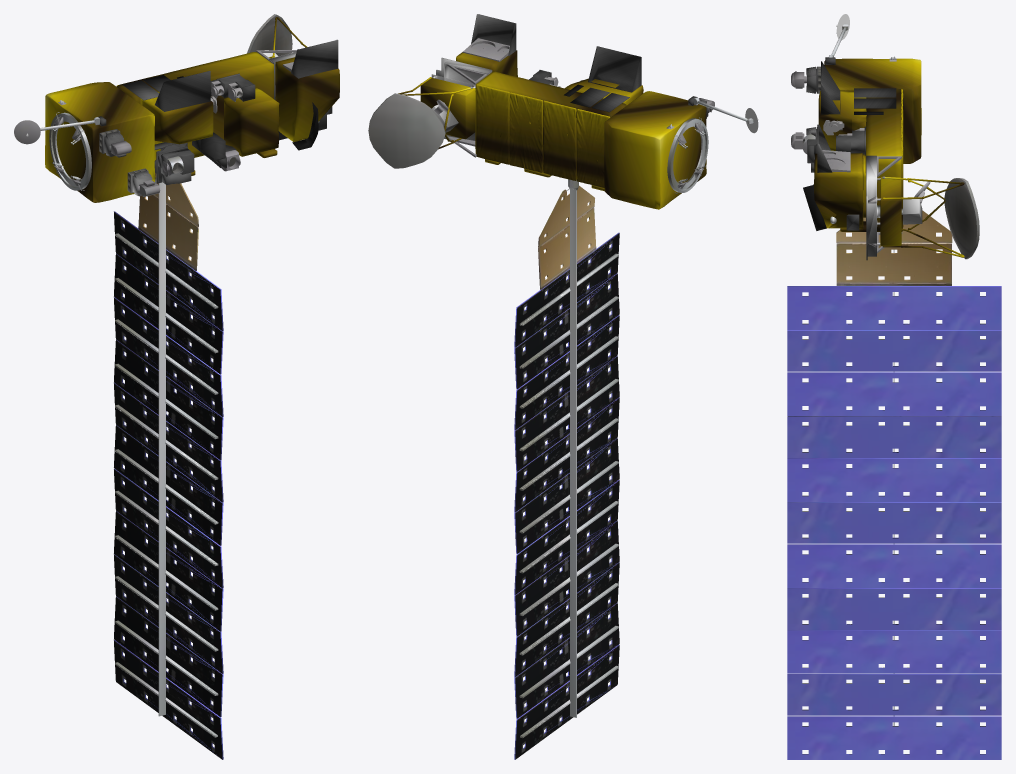
Rendered from aqua-b.glb.
3 renders of one model, left to right at view 1: azimuth 30°, elevation 25°; view 2: azimuth 150°, elevation 25°; view 3: azimuth 270°, elevation 25°, orthographic. The views are drawn at different scales.
Visible parts, largest first — view 1: tex_01, foil_gold, foil_silver, shiny_panel; view 2: tex_01, foil_gold, gold_2, foil_silver, shiny_panel; view 3: shiny_panel, foil_gold, tex_01, foil_silver, black_krinkle.
Boxes of the visible parts, bbox=[...] form: tex_01: bbox=[14, 14, 319, 759]; foil_gold: bbox=[45, 17, 339, 202]; foil_silver: bbox=[98, 39, 338, 196]; shiny_panel: bbox=[114, 211, 223, 759]; tex_01: bbox=[368, 38, 758, 759]; foil_gold: bbox=[398, 50, 706, 209]; gold_2: bbox=[476, 84, 610, 187]; foil_silver: bbox=[431, 14, 711, 140]; shiny_panel: bbox=[514, 232, 619, 759]; shiny_panel: bbox=[787, 286, 1001, 759]; foil_gold: bbox=[814, 58, 964, 257]; tex_01: bbox=[788, 14, 1001, 754]; foil_silver: bbox=[795, 57, 922, 260]; black_krinkle: bbox=[803, 111, 883, 230].
Bounding box in the file's own units: 9.4 × 17.78 × 5.08.
5 materials, 4 textured.
